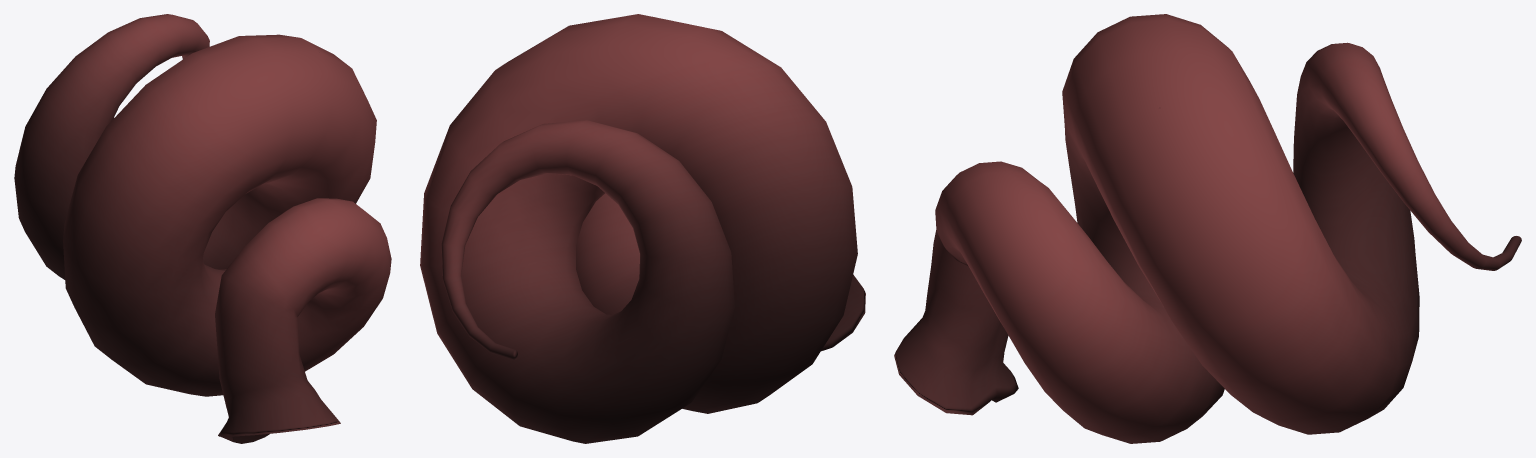
The model's file is spiral.glb.
The picture shows the model from 3 angles, left to right: view 1: azimuth 30°, elevation 25°; view 2: azimuth 150°, elevation 25°; view 3: azimuth 270°, elevation 25°; orthographic projection. The views are drawn at different scales.
Parts seen in each view (by area): view 1: t_spiral3; view 2: t_spiral3; view 3: t_spiral3.
Part boxes in pixels (x1,y1,x2,y2): t_spiral3: (14, 14, 391, 443); t_spiral3: (420, 14, 865, 443); t_spiral3: (894, 14, 1521, 443).
Size of the model in its own units: 0.1006 by 0.0972 by 0.1384.
1 material, 1 textured.
